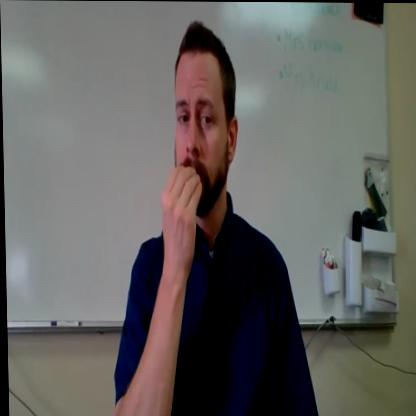Food: (149, 16, 252, 283)
